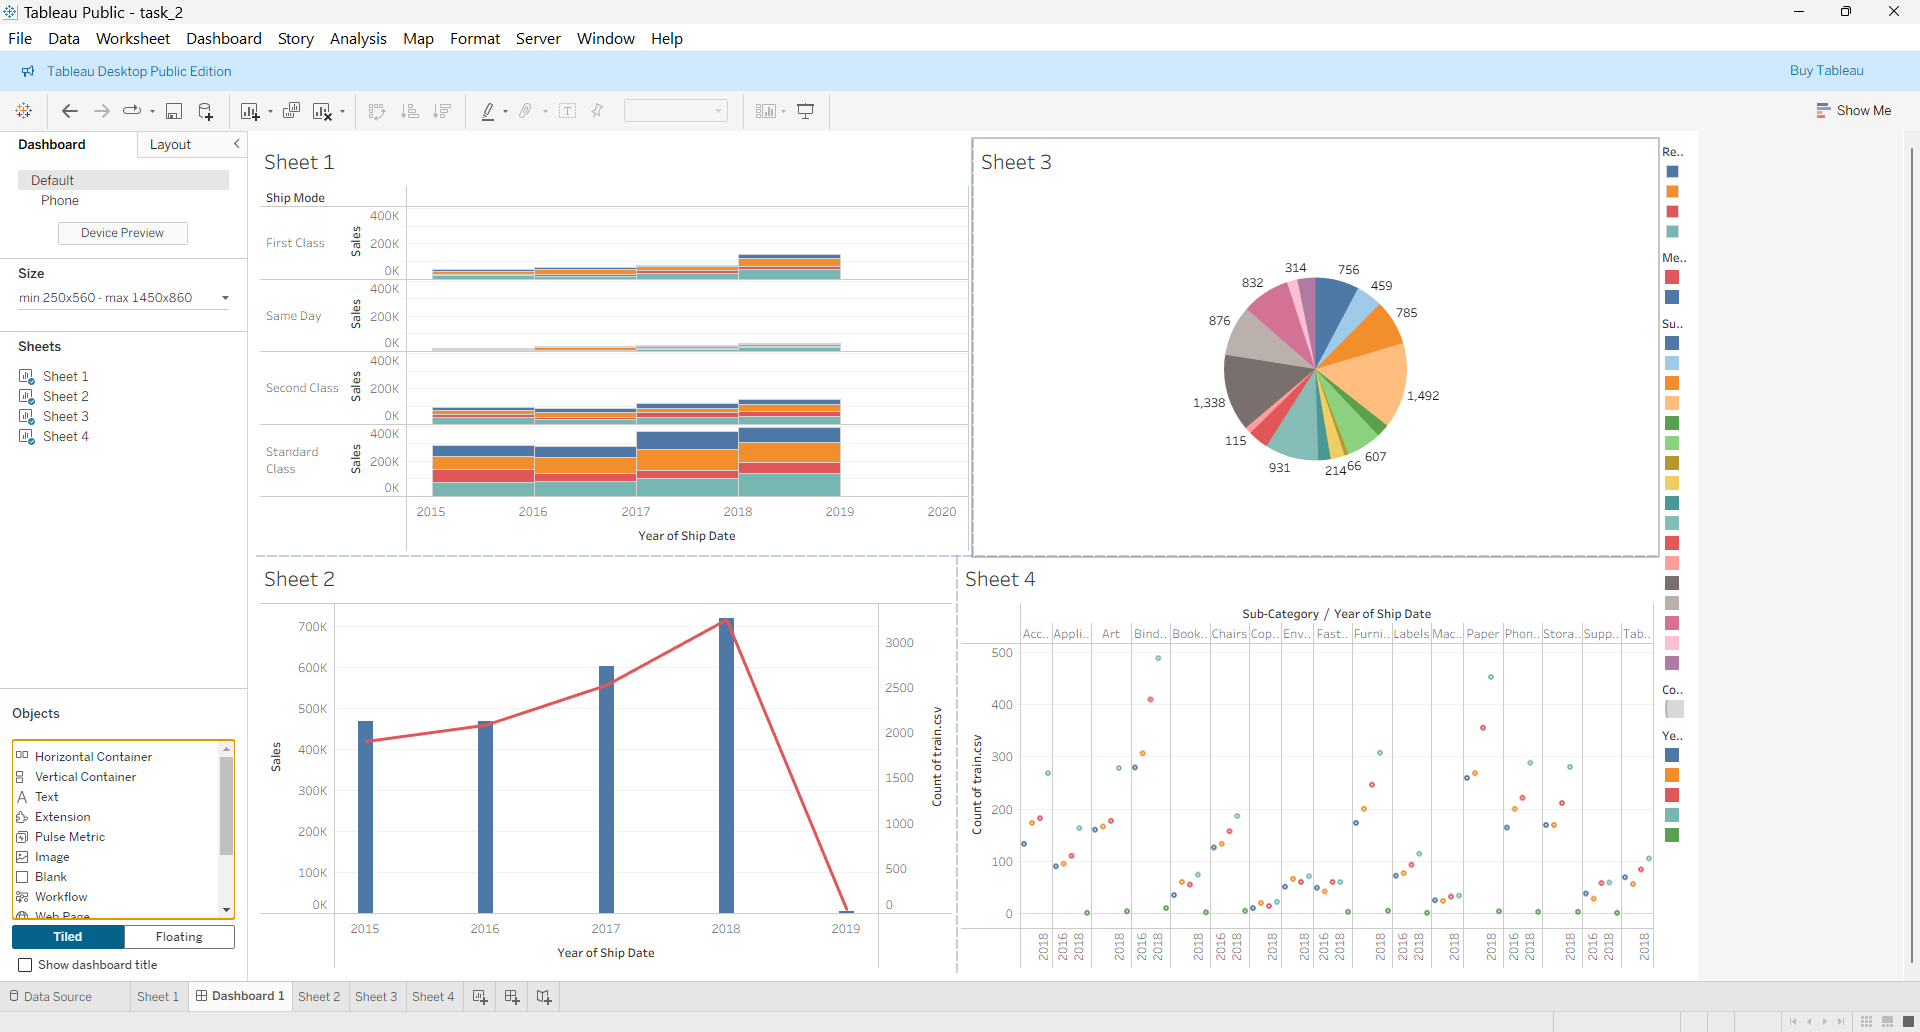

The page's visual inventory and layout, read from the dashboard file:
{"tool":"tableau","page":{"name":"Dashboard 1","canvas":[1000,1000],"units":"permille","ordinal":0},"visuals":[{"type":"worksheet","title":"Sheet 1","mark":"Bar","rows":["Ship Mode","Sales"],"cols":["Ship Date"],"box":[5.5,9.4,494.5,490.6]},{"type":"worksheet","title":"Sheet 3","mark":"Pie","box":[500,9.4,472.4,490.6]},{"type":"legend","title":"Sheet 1","param":"[federated.1x33e151d935up1556w3v1366fvy].[none:Region:nk]","box":[972.4,9.4,22.1,124.7]},{"type":"legend","title":"Sheet 2","param":"[federated.1x33e151d935up1556w3v1366fvy].[:Measure Names]","box":[972.4,134.1,22.1,77.7]},{"type":"legend","title":"Sheet 3","param":"[federated.1x33e151d935up1556w3v1366fvy].[none:Sub-Category:nk]","box":[972.4,211.8,22.1,430.6]},{"type":"worksheet","title":"Sheet 2","mark":"Automatic","rows":["Sales","train.csv_0D885AC7DD9F4D14902F2CF904E010B1"],"cols":["Ship Date"],"box":[5.5,500,483.4,490.6]},{"type":"worksheet","title":"Sheet 4","mark":"Shape","rows":["train.csv_0D885AC7DD9F4D14902F2CF904E010B1"],"cols":["Sub-Category","Ship Date"],"box":[488.9,500,483.5,490.6]},{"type":"legend","title":"Sheet 3","param":"[federated.1x33e151d935up1556w3v1366fvy].[__tableau_internal_object_id__].[cnt:t","box":[972.4,642.4,22.1,54.1]},{"type":"legend","title":"Sheet 4","param":"[federated.1x33e151d935up1556w3v1366fvy].[tyr:Ship Date:ok]","box":[972.4,696.5,22.1,148.2]}]}

Visuals, with their boxes on the dashboard's canvas, which has no fixed pixel size, in thousandths of its width and height (x1, y1, x2, y2). These are canvas units, not pixel positions in the 1920x1032 screenshot, which may show the page scaled, cropped or inside an application window:
"Sheet 1" worksheet (Bar marks): 6/9/500/500
"Sheet 3" worksheet (Pie marks): 500/9/972/500
"Sheet 1" legend: 972/9/994/134
"Sheet 2" legend: 972/134/994/212
"Sheet 3" legend: 972/212/994/642
"Sheet 2" worksheet: 6/500/489/991
"Sheet 4" worksheet (Shape marks): 489/500/972/991
"Sheet 3" legend: 972/642/994/696
"Sheet 4" legend: 972/696/994/845
